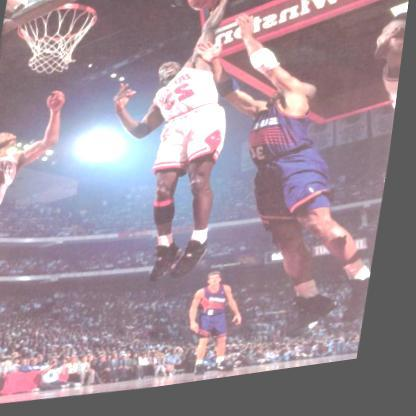basketball: (188, 0, 224, 19)
rim: (11, 0, 98, 80)
